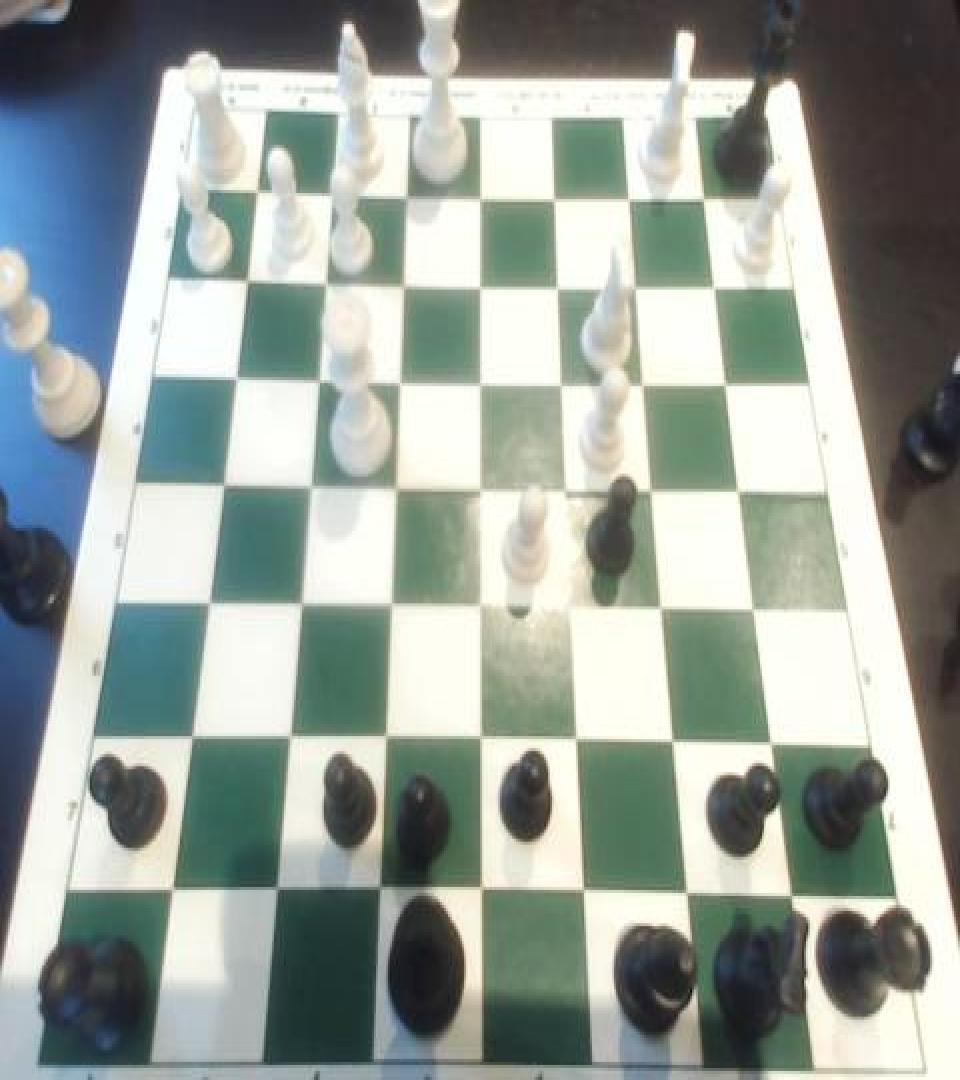xcorner: (778, 873, 806, 916), (759, 719, 787, 762), (674, 873, 702, 916), (661, 719, 689, 762), (564, 719, 592, 762), (466, 719, 494, 762), (283, 582, 311, 625), (191, 582, 219, 625), (743, 586, 771, 628), (728, 464, 756, 506), (715, 356, 743, 398), (703, 258, 731, 300), (692, 169, 720, 211), (651, 584, 679, 626), (641, 463, 669, 505), (632, 356, 660, 398), (624, 258, 652, 300), (617, 169, 645, 211), (570, 872, 598, 914), (558, 584, 586, 626), (554, 463, 582, 505), (546, 258, 574, 300), (542, 169, 570, 211), (466, 872, 494, 914), (466, 584, 494, 626), (467, 463, 495, 505), (467, 256, 495, 298), (468, 169, 496, 211), (362, 870, 390, 912), (369, 718, 397, 760), (374, 584, 402, 626), (380, 463, 408, 505), (389, 256, 417, 298), (393, 169, 421, 211), (258, 870, 286, 912), (271, 718, 299, 760), (293, 463, 321, 505), (310, 256, 338, 298), (318, 169, 346, 211), (154, 870, 182, 912), (174, 718, 202, 760), (232, 256, 260, 298), (243, 168, 271, 210), (550, 355, 578, 396), (467, 355, 495, 396), (385, 355, 413, 396), (302, 355, 330, 396), (206, 462, 234, 503), (220, 355, 248, 396)
